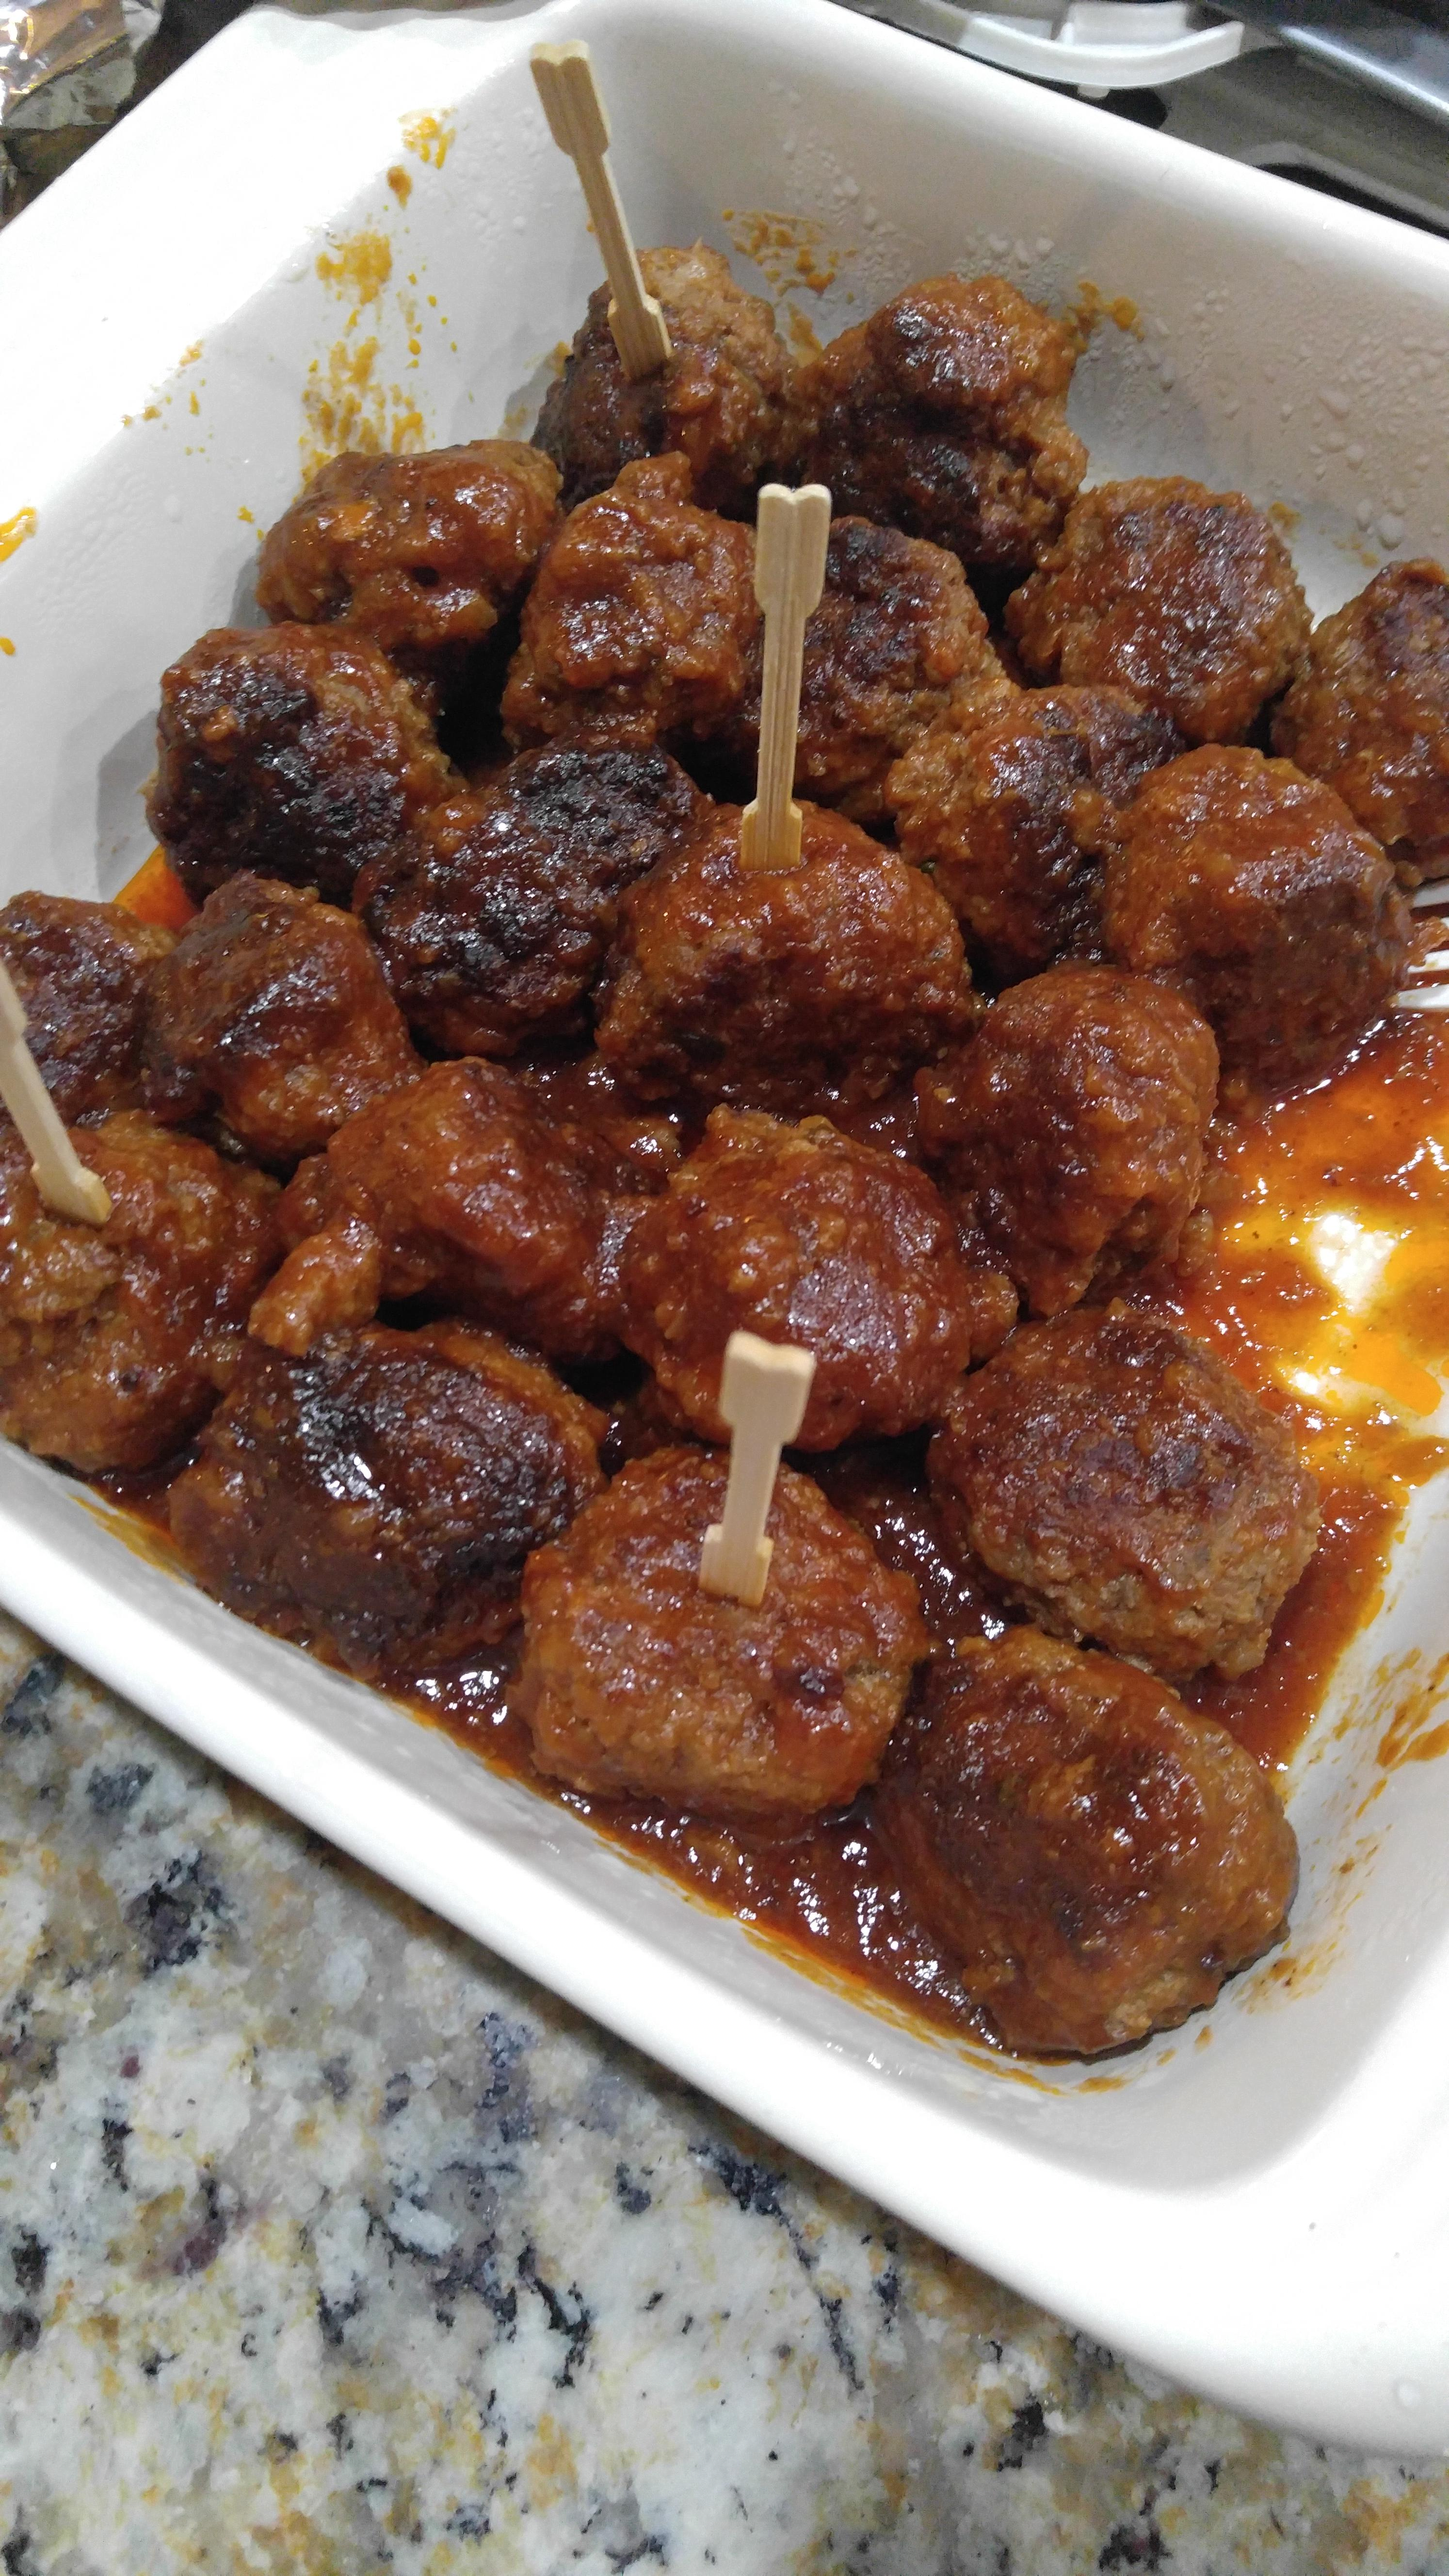meatballs: (295, 561, 1060, 1698)
